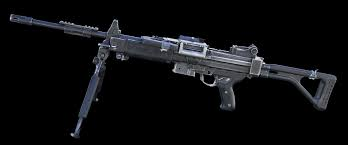gun: (6, 11, 339, 138)
